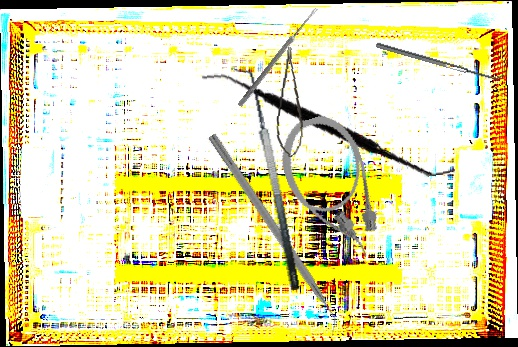Cannula: (271, 107, 391, 273)
Chopper: (197, 132, 347, 340)
Micro Scissor: (272, 46, 313, 159)
Spatula Surgical: (201, 42, 456, 206), (232, 64, 302, 295), (375, 37, 505, 84)
Surgical Spoon: (237, 6, 319, 108)
